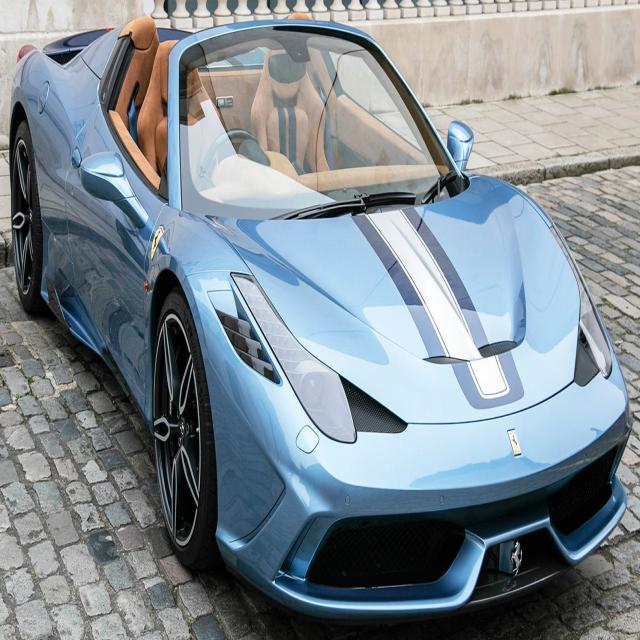blue: (10, 4, 634, 640)
